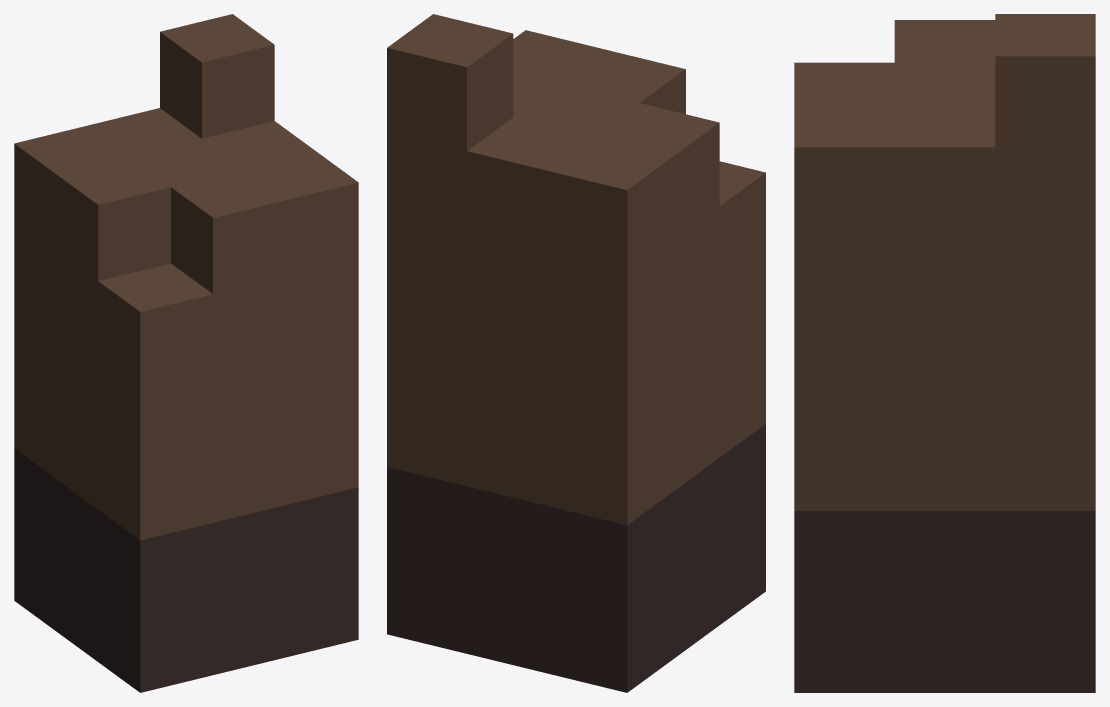
Rendered from boar__leg_bl.glb.
3 renders of one model, left to right at view 1: azimuth 30°, elevation 25°; view 2: azimuth 150°, elevation 25°; view 3: azimuth 270°, elevation 25°, orthographic. The views are drawn at different scales.
Parts seen in each view (by area): view 1: boar__leg_bl; view 2: boar__leg_bl; view 3: boar__leg_bl.
Boxes of the visible parts, box(x1,y1,x2,y2) form: boar__leg_bl: box(14, 14, 358, 692); boar__leg_bl: box(387, 14, 765, 692); boar__leg_bl: box(794, 14, 1095, 692).
Size of the model in its own units: 0.3 by 0.7 by 0.3.
Materials: 1 (1 with a texture image).
